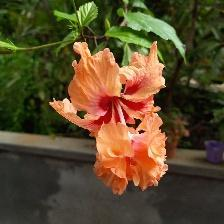hibiscus: (52, 35, 174, 196)
